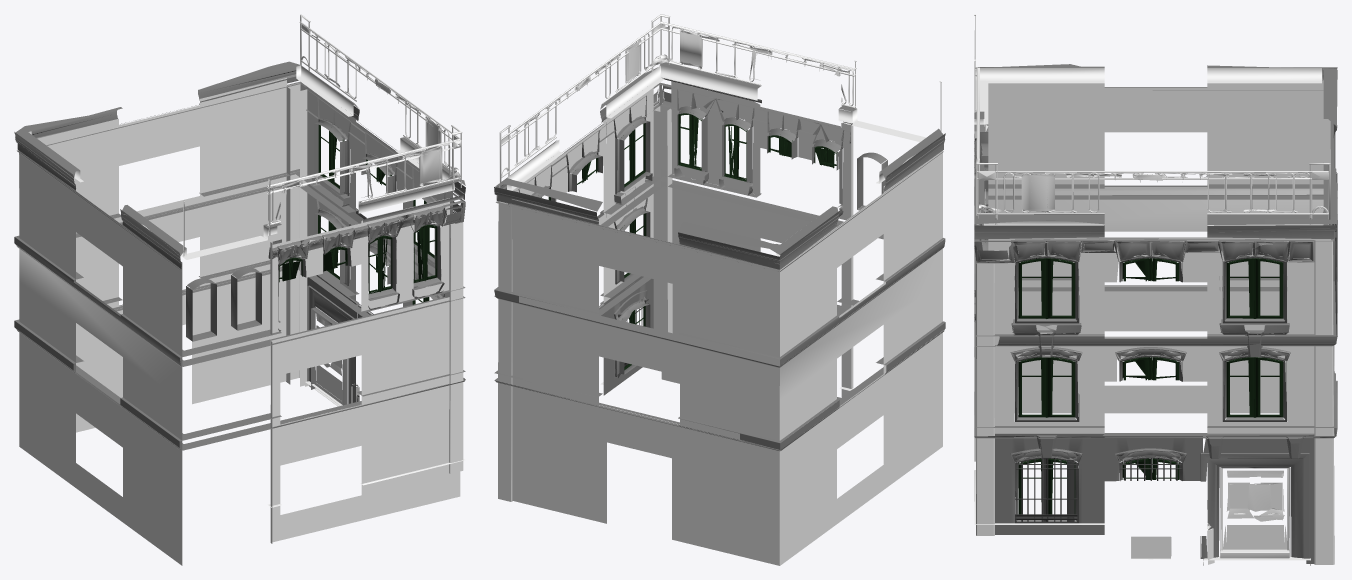
File: B_BuildingCorner_LOD2.obj
The picture shows the model from 3 angles, left to right: view 1: azimuth 30°, elevation 25°; view 2: azimuth 150°, elevation 25°; view 3: azimuth 270°, elevation 25°; orthographic projection. The views are drawn at different scales.
Visible parts, largest first — view 1: B_BuildingCorner_LOD2_m7, B_BuildingCorner_LOD2_m3, B_BuildingCorner_LOD2_m6, B_BuildingCorner_LOD2_m2, B_BuildingCorner_LOD2_m1, B_BuildingCorner_LOD2_m0, B_BuildingCorner_LOD2_m4; view 2: B_BuildingCorner_LOD2_m7, B_BuildingCorner_LOD2_m3, B_BuildingCorner_LOD2_m6, B_BuildingCorner_LOD2_m2, B_BuildingCorner_LOD2_m0, B_BuildingCorner_LOD2_m1; view 3: B_BuildingCorner_LOD2_m7, B_BuildingCorner_LOD2_m3, B_BuildingCorner_LOD2_m6, B_BuildingCorner_LOD2_m1, B_BuildingCorner_LOD2_m0, B_BuildingCorner_LOD2_m2, B_BuildingCorner_LOD2_m5, B_BuildingCorner_LOD2_m4.
Boxes of the visible parts, bbox=[...] form: B_BuildingCorner_LOD2_m7: bbox=[19, 77, 460, 565]; B_BuildingCorner_LOD2_m3: bbox=[14, 61, 465, 450]; B_BuildingCorner_LOD2_m6: bbox=[286, 83, 463, 473]; B_BuildingCorner_LOD2_m2: bbox=[183, 14, 462, 256]; B_BuildingCorner_LOD2_m1: bbox=[279, 125, 437, 304]; B_BuildingCorner_LOD2_m0: bbox=[28, 65, 465, 507]; B_BuildingCorner_LOD2_m4: bbox=[314, 313, 342, 404]; B_BuildingCorner_LOD2_m7: bbox=[507, 81, 942, 565]; B_BuildingCorner_LOD2_m3: bbox=[494, 62, 945, 451]; B_BuildingCorner_LOD2_m6: bbox=[498, 106, 672, 501]; B_BuildingCorner_LOD2_m2: bbox=[499, 14, 941, 187]; B_BuildingCorner_LOD2_m0: bbox=[507, 65, 926, 390]; B_BuildingCorner_LOD2_m1: bbox=[541, 113, 837, 370]; B_BuildingCorner_LOD2_m7: bbox=[974, 80, 1330, 461]; B_BuildingCorner_LOD2_m3: bbox=[974, 64, 1337, 563]; B_BuildingCorner_LOD2_m6: bbox=[976, 239, 1334, 564]; B_BuildingCorner_LOD2_m1: bbox=[985, 202, 1283, 514]; B_BuildingCorner_LOD2_m0: bbox=[974, 68, 1322, 565]; B_BuildingCorner_LOD2_m2: bbox=[974, 14, 1330, 224]; B_BuildingCorner_LOD2_m5: bbox=[1015, 257, 1286, 523]; B_BuildingCorner_LOD2_m4: bbox=[1220, 467, 1290, 550].
Bounding box in the file's own units: 10.6 × 12.92 × 10.6.
